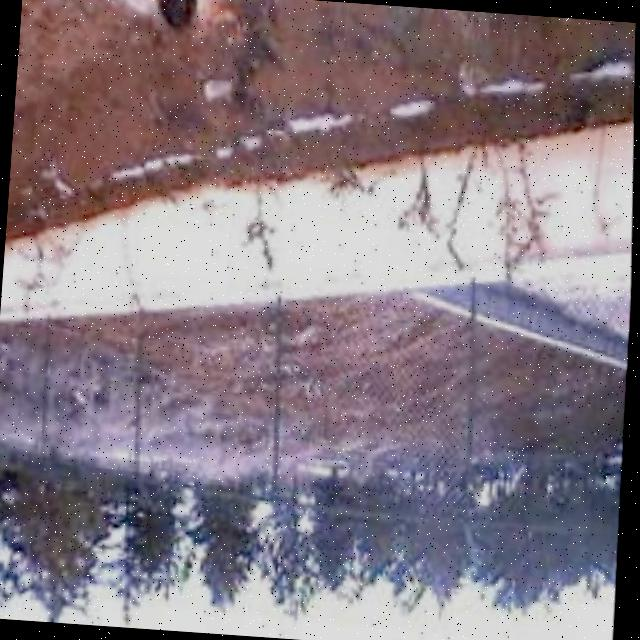fire: (123, 0, 229, 46)
